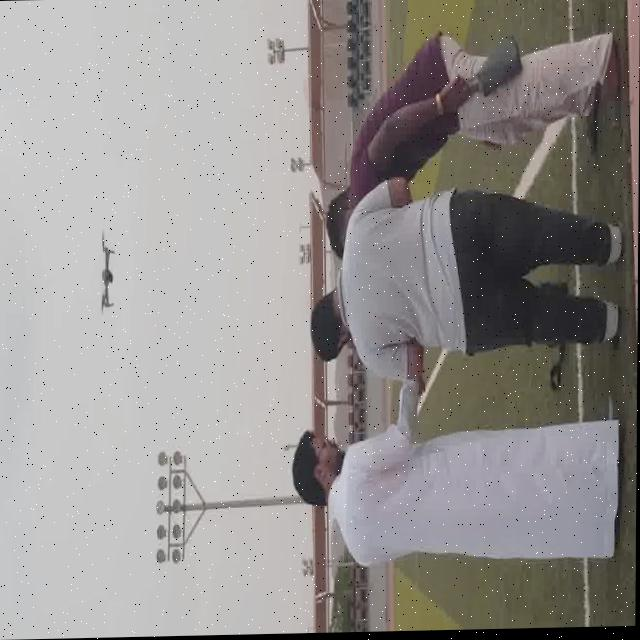drone: (94, 227, 119, 319)
